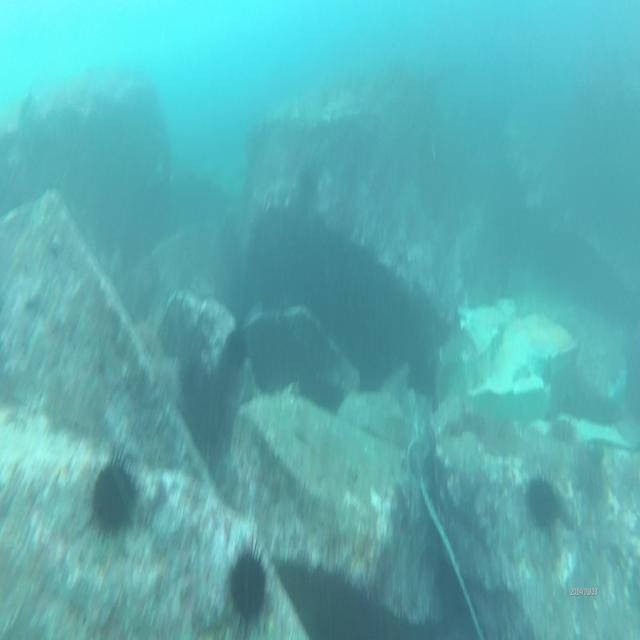echinus: (87, 444, 143, 545), (225, 528, 273, 638), (527, 463, 563, 543)
